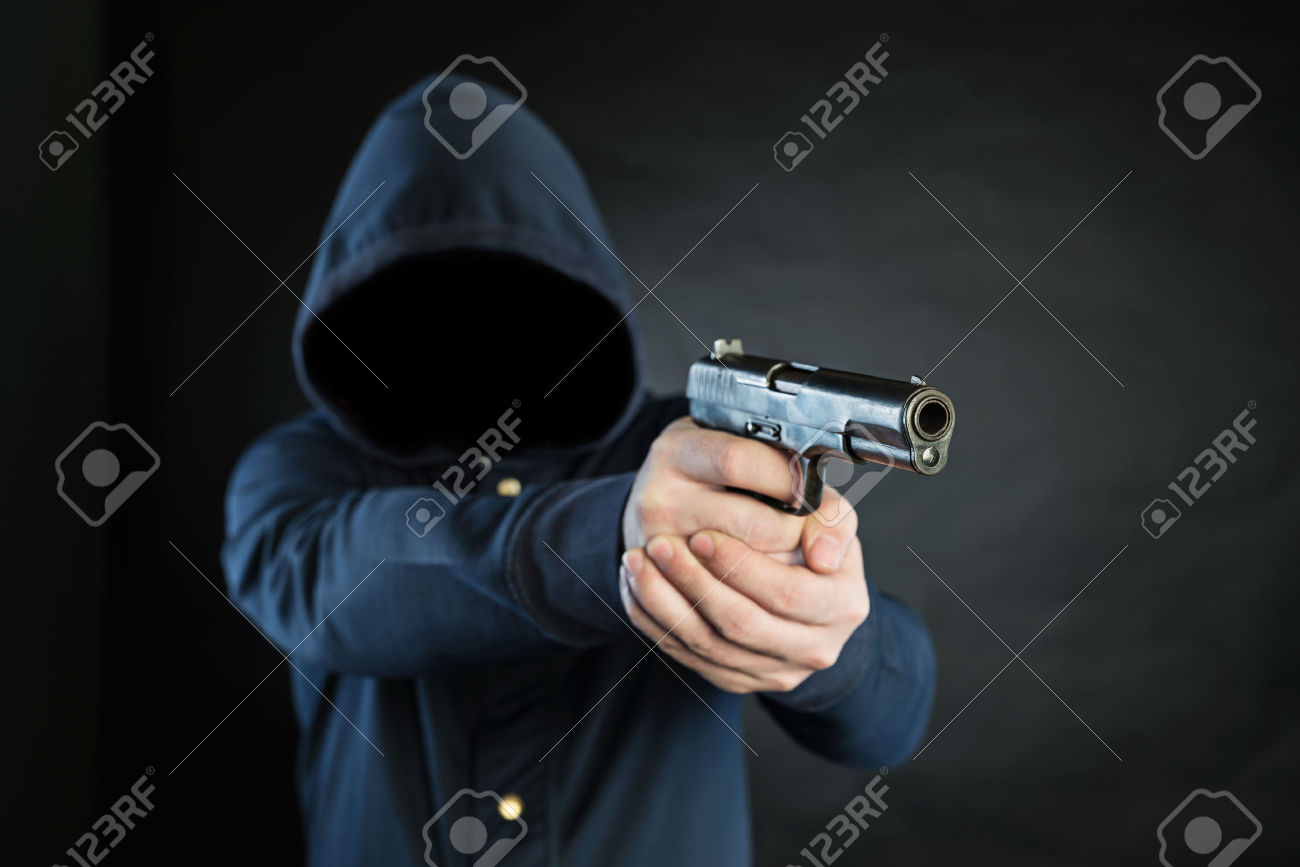pistol: (684, 339, 958, 519)
